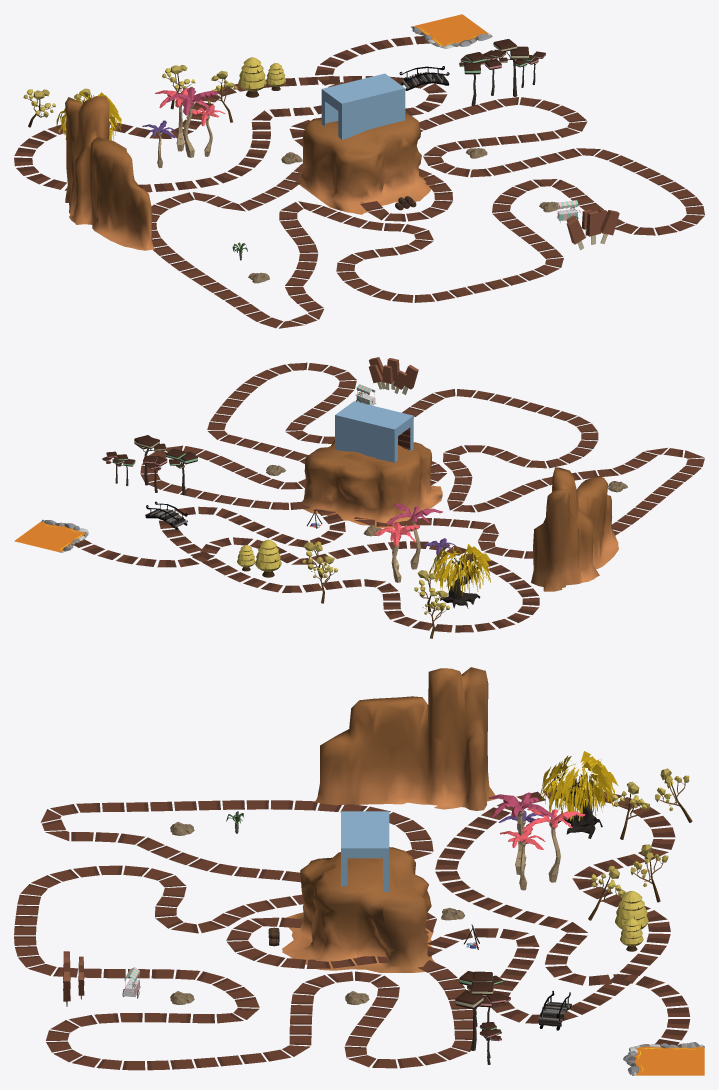
Rendered from candyland.glb.
3 views of the same model, one above another, from view 1: azimuth 30°, elevation 25°; view 2: azimuth 150°, elevation 25°; view 3: azimuth 270°, elevation 25° (orthographic). The views are drawn at different scales.
Parts seen in each view (by area): view 1: camino, Mountain2, Mountain3, Camino2, laboratorio, Water, PalmTree_02, TreeRoundPine_01, TreeTall_03.004, Log_Bridge, Tree_Leafs, TreeTall_03.005 (+1 smaller); view 2: camino, Camino2, Mountain2, Mountain3, laboratorio, Tree_Leafs, Water, TreeRoundPine_01, PalmTree_02, PalmTree_05, Log_Bridge, TreeTall_03.005 (+1 smaller); view 3: camino, Mountain3, Mountain2, Camino2, Tree_Leafs, laboratorio, Water, PalmTree_02, TreeTall_03.004, PalmTree_05, TreeRoundPine_01, Log_Bridge (+3 smaller).
Part boxes in pixels (<box>): camino: <box>151,97,704,328</box>; Mountain2: <box>295,111,434,214</box>; Mountain3: <box>65,96,154,250</box>; Camino2: <box>14,36,447,192</box>; laboratorio: <box>321,73,405,139</box>; Water: <box>411,14,492,48</box>; PalmTree_02: <box>166,87,217,157</box>; TreeRoundPine_01: <box>238,57,266,97</box>; TreeTall_03.004: <box>490,39,528,96</box>; Log_Bridge: <box>399,66,449,90</box>; Tree_Leafs: <box>56,90,121,140</box>; TreeTall_03.005: <box>459,52,486,105</box>; camino: <box>140,362,704,558</box>; Camino2: <box>73,506,539,632</box>; Mountain2: <box>302,440,442,528</box>; Mountain3: <box>531,467,618,591</box>; laboratorio: <box>335,401,413,462</box>; Tree_Leafs: <box>429,544,491,608</box>; Water: <box>14,519,88,552</box>; TreeRoundPine_01: <box>255,539,281,577</box>; PalmTree_02: <box>386,503,442,569</box>; PalmTree_05: <box>377,522,419,582</box>; Log_Bridge: <box>145,501,187,529</box>; TreeTall_03.005: <box>165,448,197,495</box>; camino: <box>14,800,476,1070</box>; Mountain3: <box>315,667,497,810</box>; Mountain2: <box>282,847,434,972</box>; Camino2: <box>427,789,690,1045</box>; Tree_Leafs: <box>540,751,618,838</box>; laboratorio: <box>341,811,389,891</box>; Water: <box>623,1042,704,1075</box>; PalmTree_02: <box>488,792,555,874</box>; TreeTall_03.004: <box>455,981,493,1050</box>; PalmTree_05: <box>522,808,585,882</box>; TreeRoundPine_01: <box>615,891,648,929</box>; Log_Bridge: <box>538,991,571,1030</box>.
Size of what is drawn, in the model's own units: 63.42 by 14.14 by 63.07.
7 materials, 6 textured.
